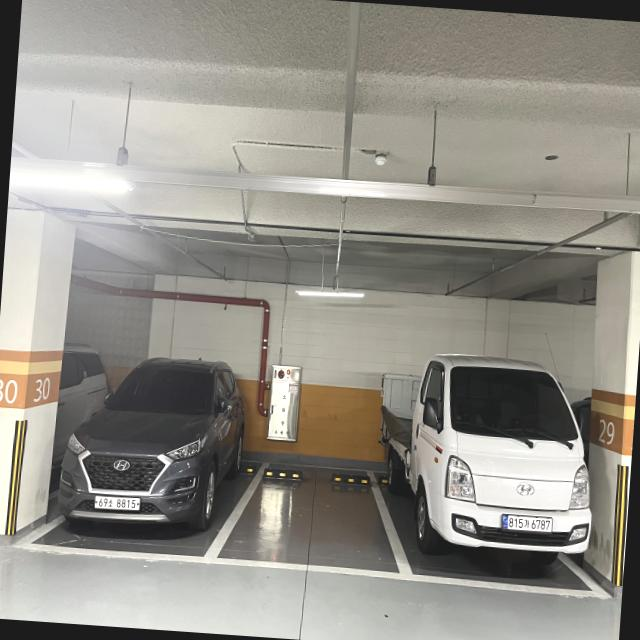car: (400, 335, 632, 613), (48, 338, 237, 569)
free: (199, 460, 416, 582)
